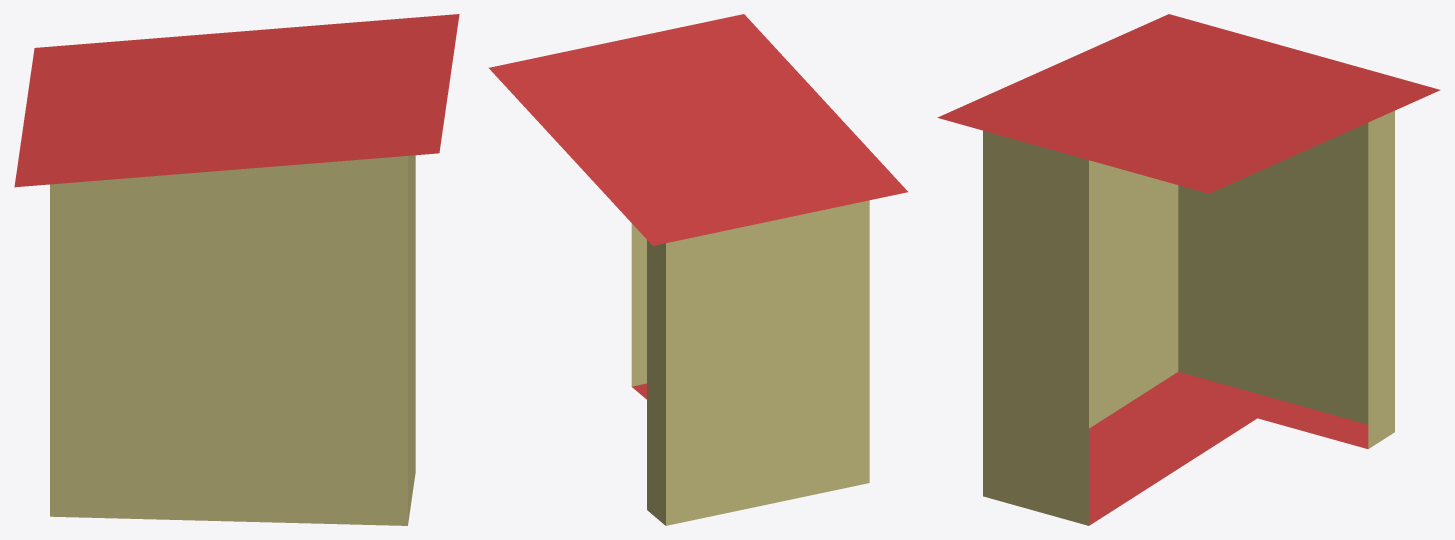
3 views of the same model, side by side, from view 1: azimuth 30°, elevation 25°; view 2: azimuth 150°, elevation 25°; view 3: azimuth 270°, elevation 25° (orthographic). The views are drawn at different scales.
Size of the model in its own units: 8 by 7.6 by 6.37.
